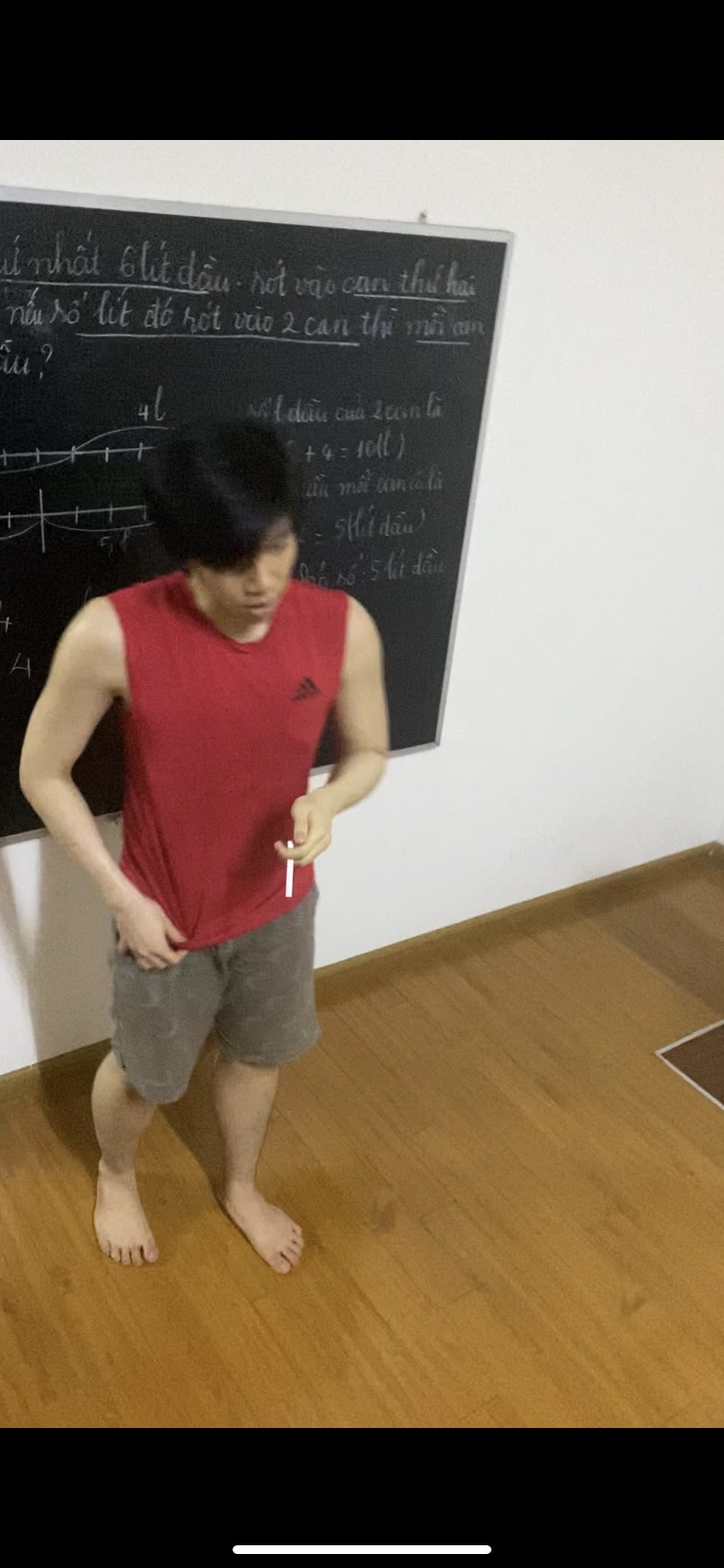cigarette: (280, 857, 301, 902)
person: (18, 424, 382, 1311)
